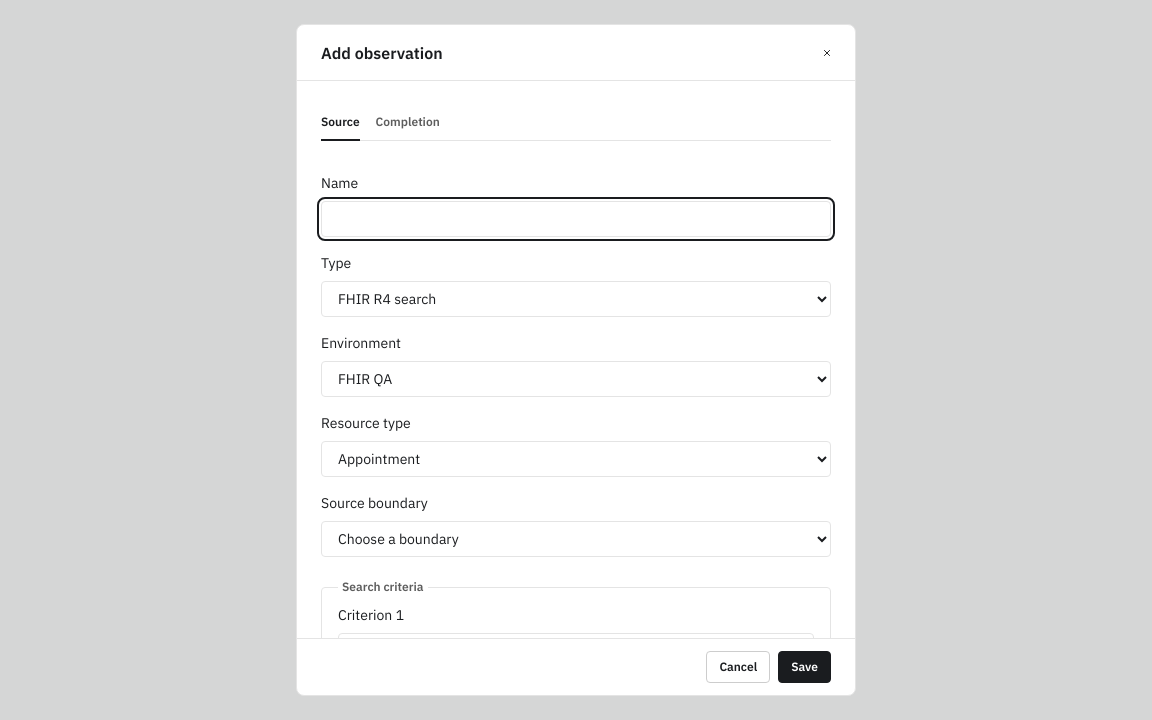
Test case: unsupported saved observation fields and criteria remain in the whole dirty draft after Save refuses
This screenshot has width=1152, height=720.
Type "Preserved mapping" into the field labelled "Name" at (576, 219), box [321, 201, 831, 237]
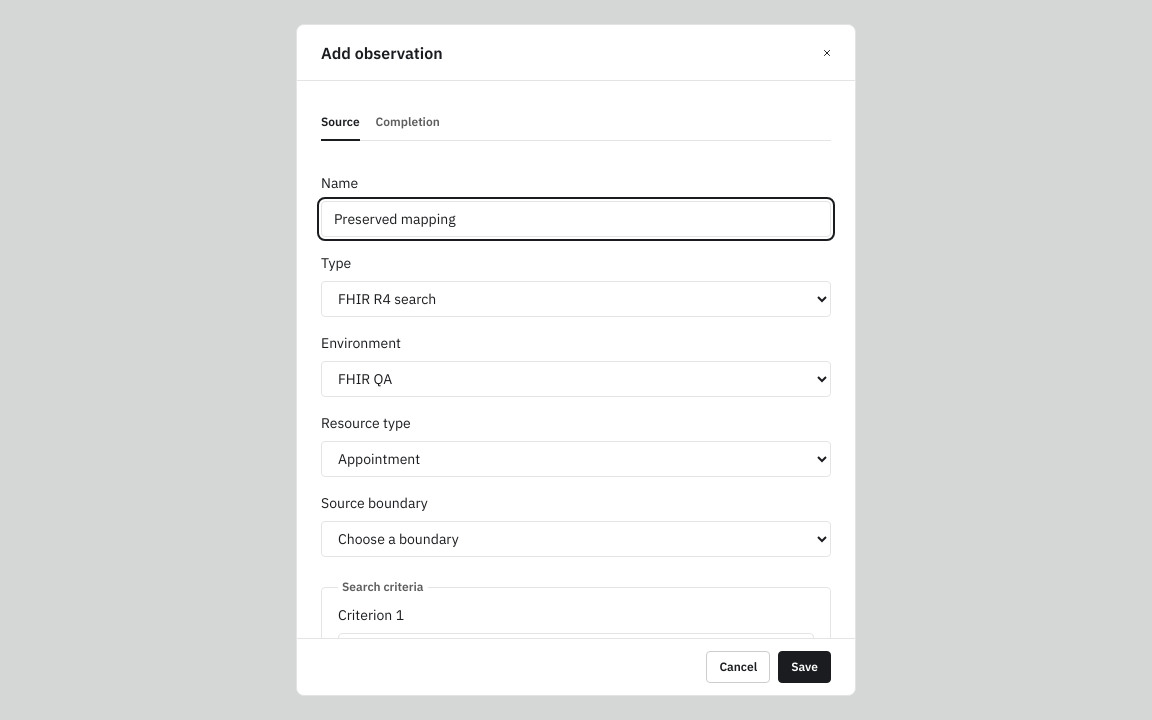
Click the button "Save" at (805, 667), box [778, 651, 831, 683]
(page scrolled)
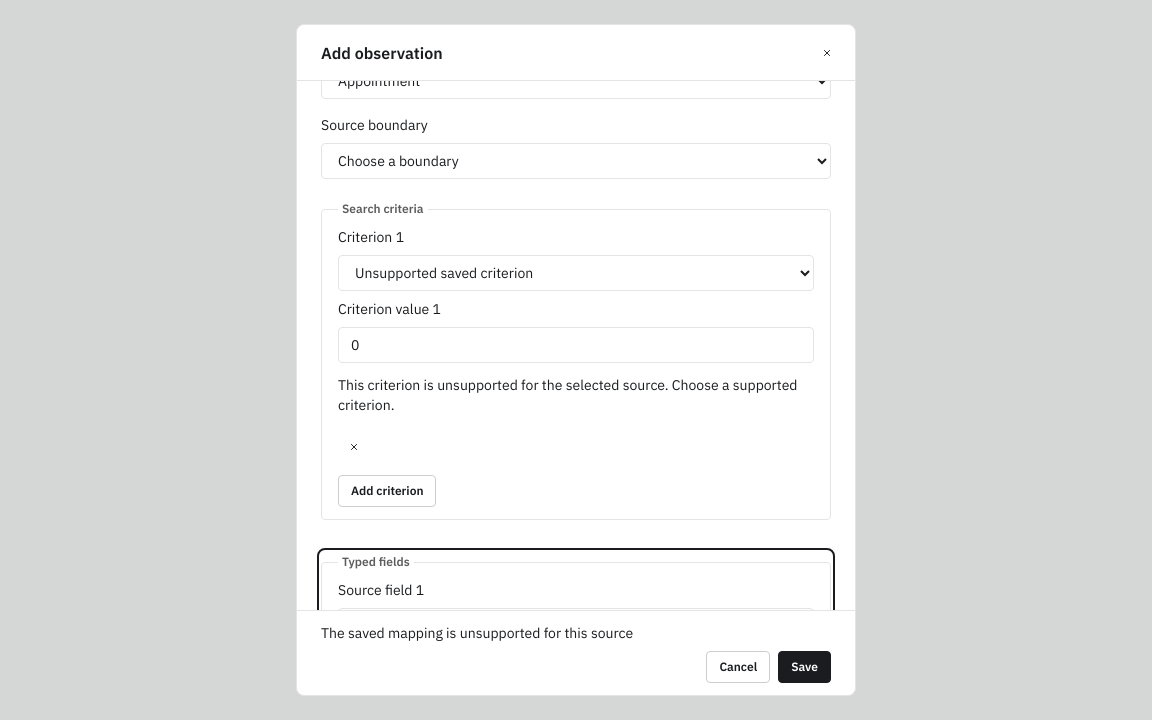
Result: the text "The saved mapping is unsupported for this source" is shown at [321, 624, 633, 642]
Result: the field labelled "Criterion value 1" holds "0" at [338, 327, 814, 363]
